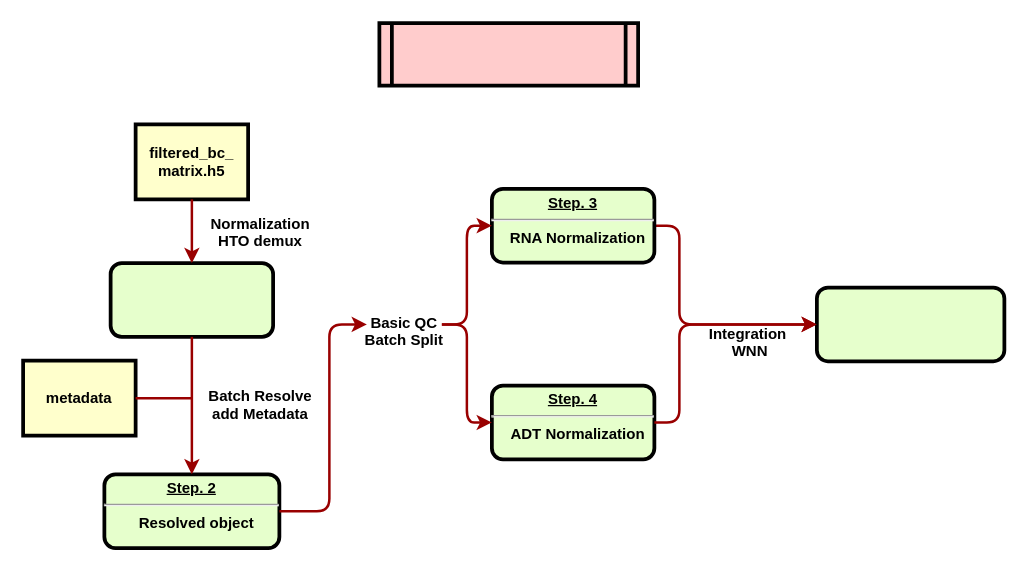
Some shapes in this 1028 by 571 pixel diagram are drawn without their labels. Each missing label, with the centre of its shape:
Step. 1 Hashtag object: (x=191, y=299)
Step. 5 Integrated object: (x=910, y=323)
WORKFLOW: (x=508, y=54)
